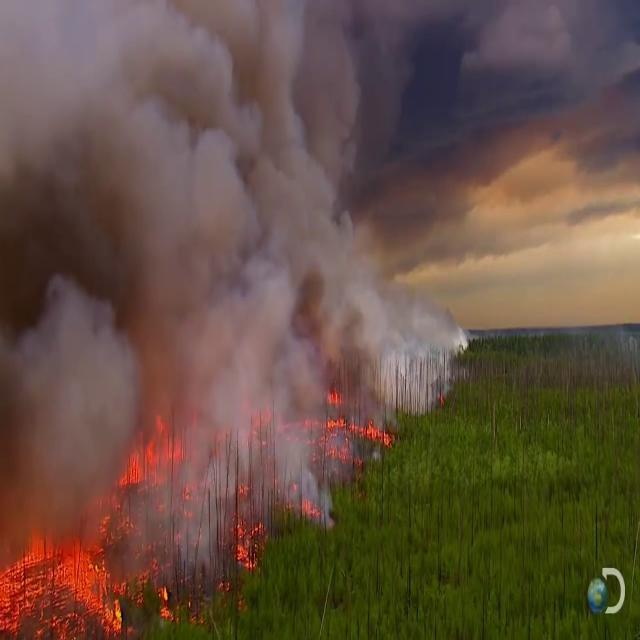Fire: (5, 0, 283, 632), (15, 545, 104, 640), (308, 386, 390, 452), (128, 416, 176, 484), (226, 523, 266, 564)
Smoke: (23, 100, 354, 302)
